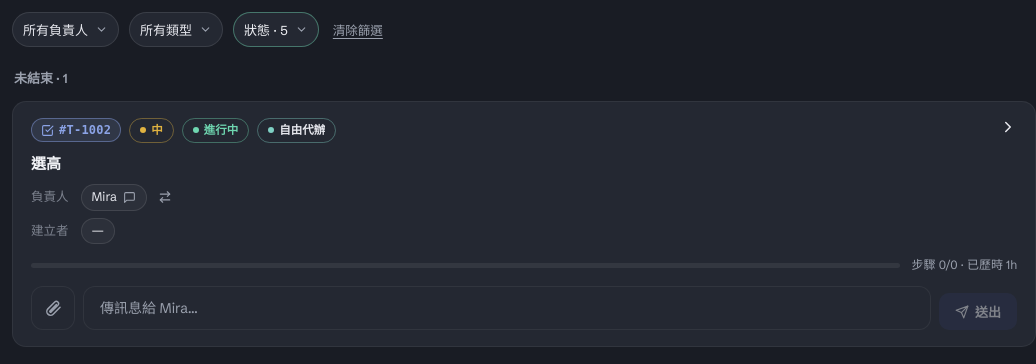
Test case: TaskCard in-place priority editing (v2) › picking an option saves the new priority and closes the row
Click the button with test id "task-priority". click: [152, 130]
box: [129,118,174,143]
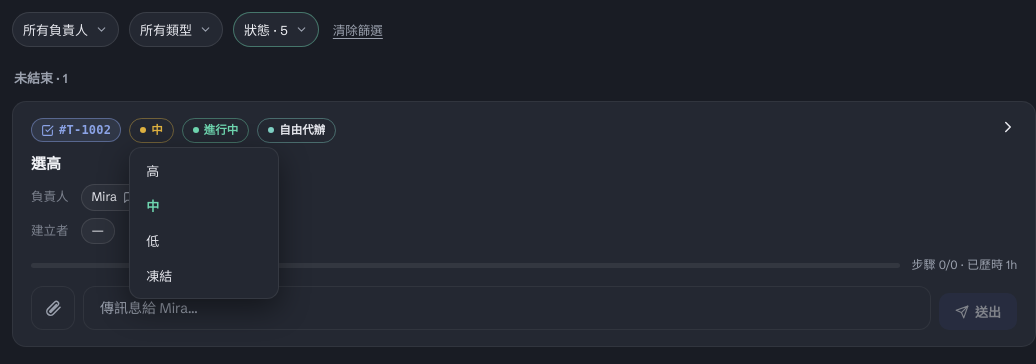
Click the menu item with test id "priority-high". click: [204, 170]
box: [136,154,272,187]
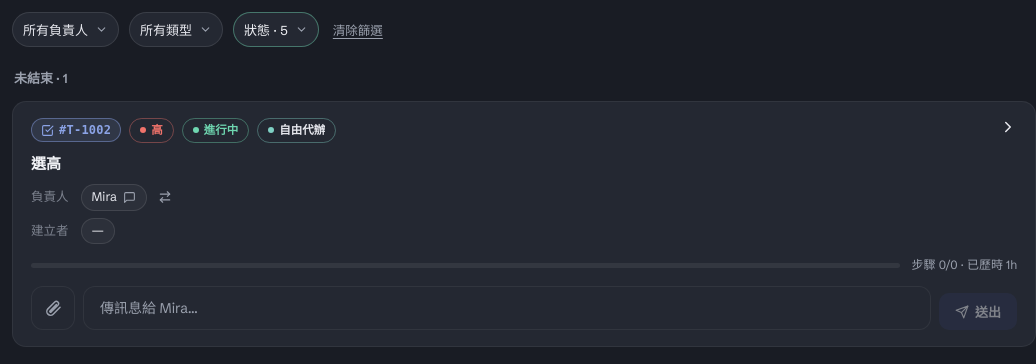
Now the menu with test id "task-priority-options" is gone
Now the button with test id "task-priority" reads "高", box [129,118,174,143]
